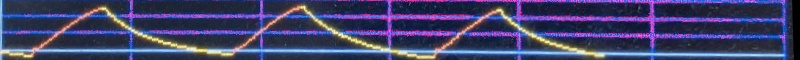normal_volume: (0, 1, 615, 60)
